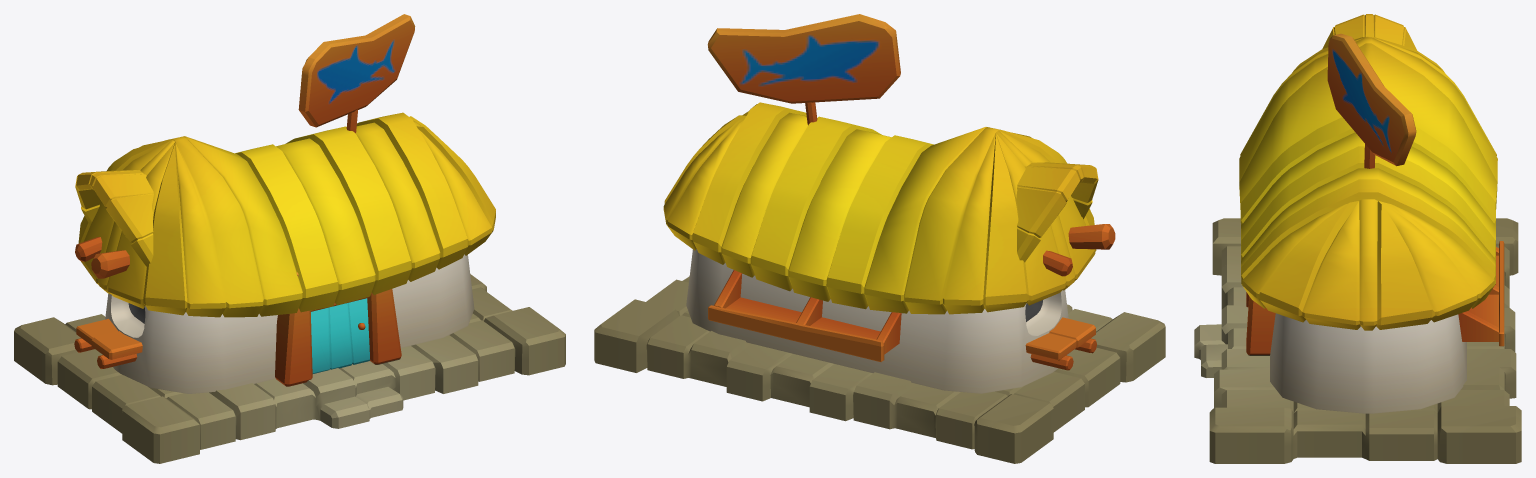
Rendered from House_3.FBX.
3 renders of one model, left to right at view 1: azimuth 30°, elevation 25°; view 2: azimuth 150°, elevation 25°; view 3: azimuth 270°, elevation 25°, orthographic. The views are drawn at different scales.
Parts seen in each view (by area): view 1: House_3, signboard; view 2: House_3, signboard; view 3: House_3, signboard.
Boxes of the visible parts, x1,y1,x2,y2 form: House_3: (14, 112, 565, 463); signboard: (298, 14, 415, 133); House_3: (594, 102, 1165, 463); signboard: (707, 14, 900, 125); House_3: (1194, 14, 1521, 463); signboard: (1327, 33, 1416, 168).
Bounding box in the file's own units: 40.2 × 29.41 × 25.98.
Materials: 1 (1 with a texture image).
